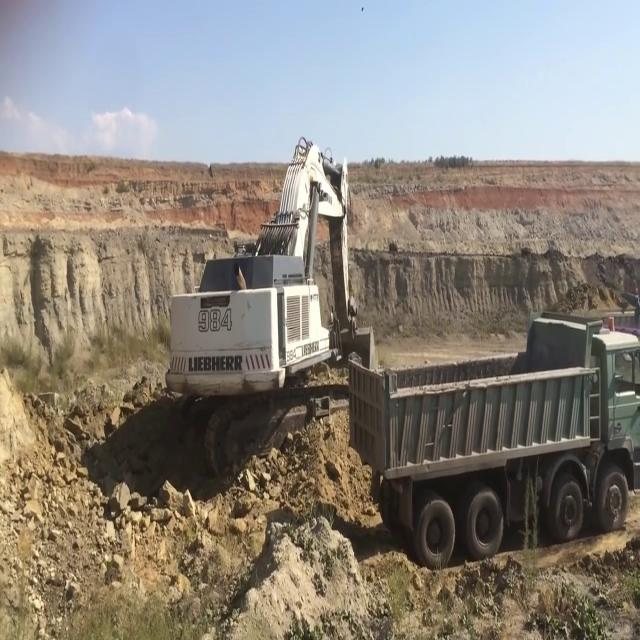excavator: (154, 127, 381, 414)
